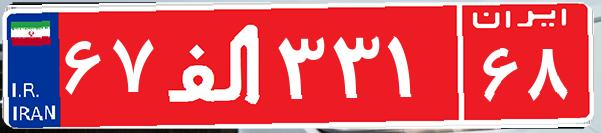1: (385, 28, 445, 110)
3: (273, 28, 330, 110), (330, 28, 385, 110)
6: (57, 26, 110, 107), (475, 38, 525, 113)
7: (110, 28, 158, 105)
8: (525, 38, 570, 115)
الف: (158, 15, 273, 115)
